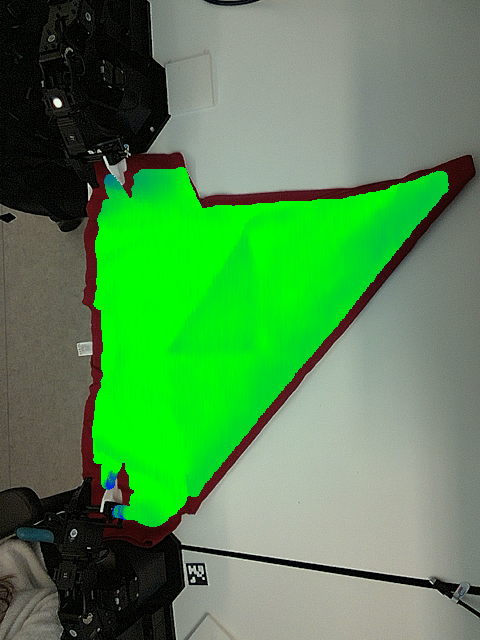V: (223, 320, 272, 359)
